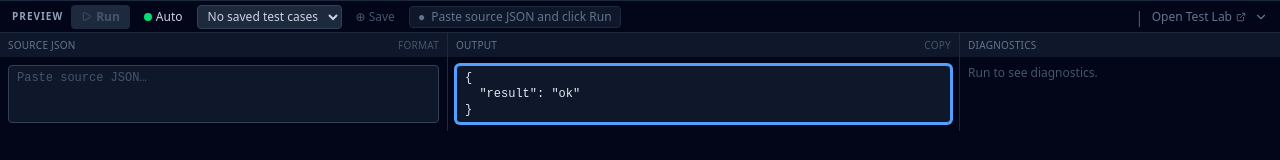
it: InlinePreviewStrip › Copy button shows "Copied ✓" after successful copy
This screenshot has width=1280, height=160.
Click the button with test id "strip-copy-button".
click(938, 45)  # box left=924, top=38, right=951, bottom=52
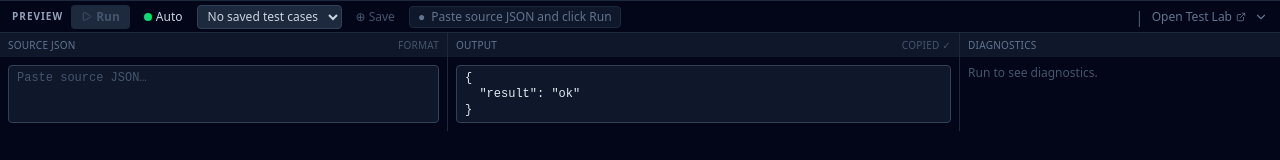
Result: the button with test id "strip-copy-button" reads "Copied ✓" at left=902, top=38, right=951, bottom=52
